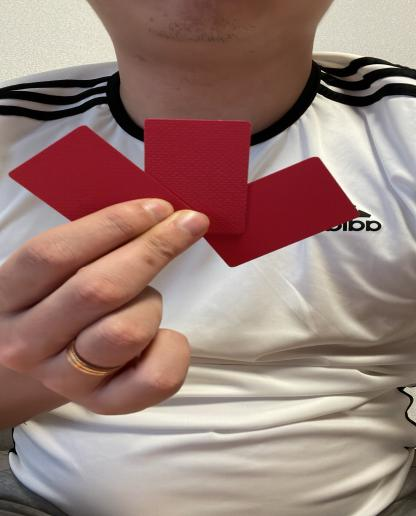ThreeHwatoo: (9, 112, 369, 270)
